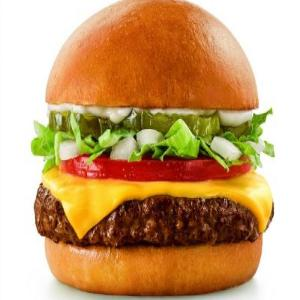cheeseburger: (30, 1, 286, 294)
